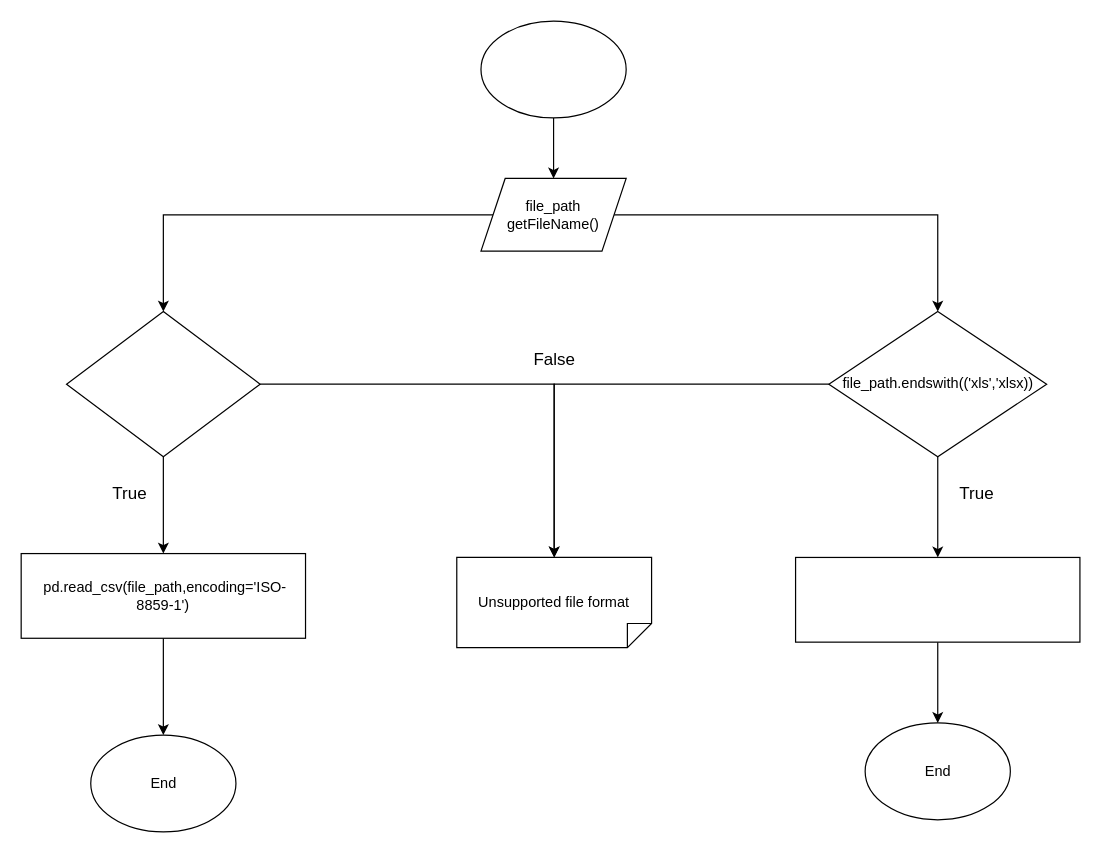
The diagram is 1101 pixels wide and 853 high, and some of its shapes have lost their labels. The shapes that lost their labels are listed below. From the top down, each one's box as (x1, y1, x2, y2) in pixels, then its label:
(480, 20, 626, 118): Start
(65, 310, 260, 457): file_path.endswith('.csv')
(794, 556, 1080, 642): pd.read_excel(file_path)
